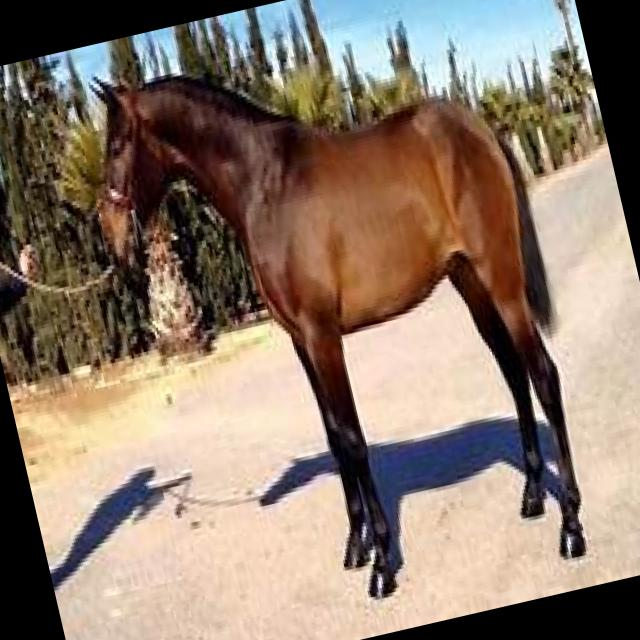animal: (65, 0, 613, 640)
